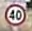limite 40: (3, 3, 26, 27)
